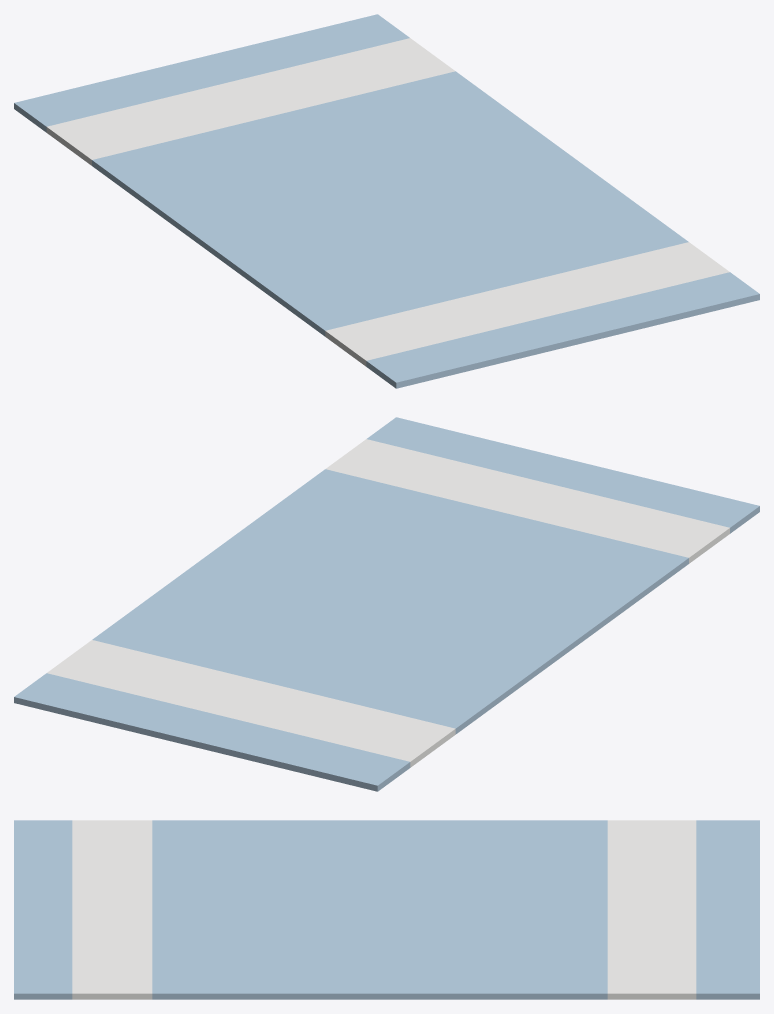
The model's file is Isl_11_Beach_Towel_2.fbx.
The picture shows the model from 3 angles, top to bottom: view 1: azimuth 30°, elevation 25°; view 2: azimuth 150°, elevation 25°; view 3: azimuth 270°, elevation 25°; orthographic projection. The views are drawn at different scales.
Visible parts, largest first — view 1: Isl_11_Beach_Towel_2; view 2: Isl_11_Beach_Towel_2; view 3: Isl_11_Beach_Towel_2.
Boxes of the visible parts, left/top/right/bottom form: Isl_11_Beach_Towel_2: left=14, top=14, right=759, bottom=388; Isl_11_Beach_Towel_2: left=14, top=417, right=759, bottom=791; Isl_11_Beach_Towel_2: left=14, top=820, right=759, bottom=999.
Size of the model in its own units: 117 by 214 by 1.87.
Materials: 1 (1 with a texture image).
